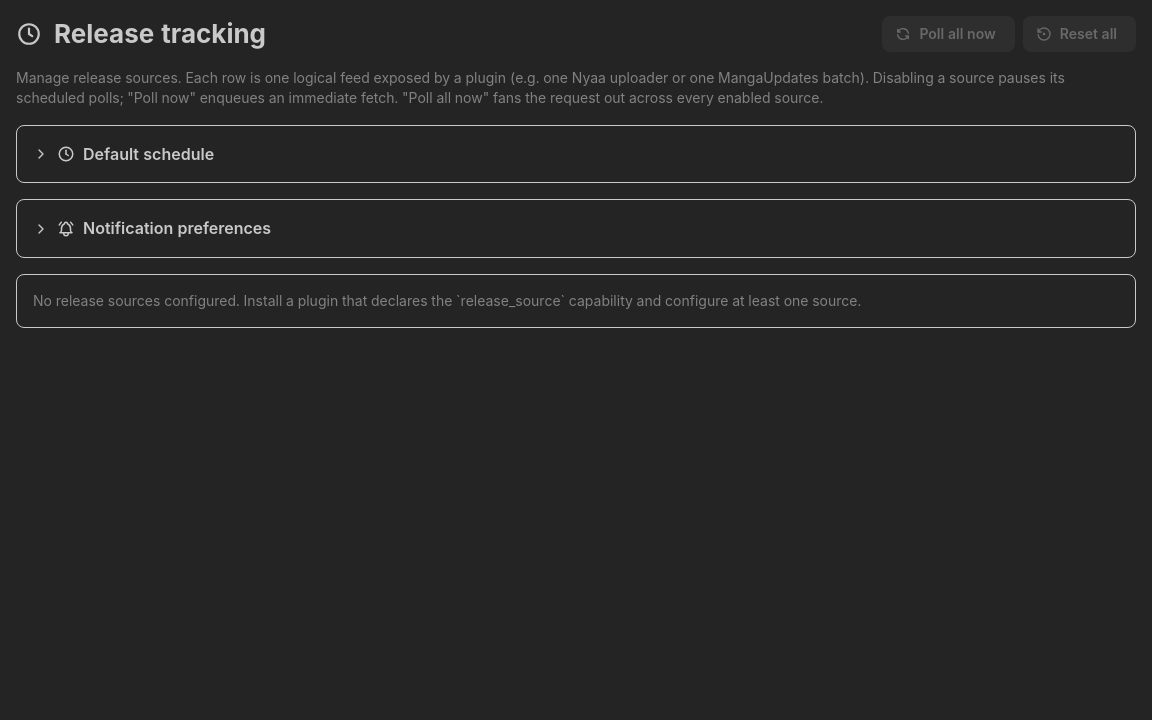
Test: ReleaseTrackingSettings › plugin-sources dropdown lists release-source plugins by display name
Click the button with aria-label "Expand notification preferences".
click(152, 228)  # box [33,218,271,238]
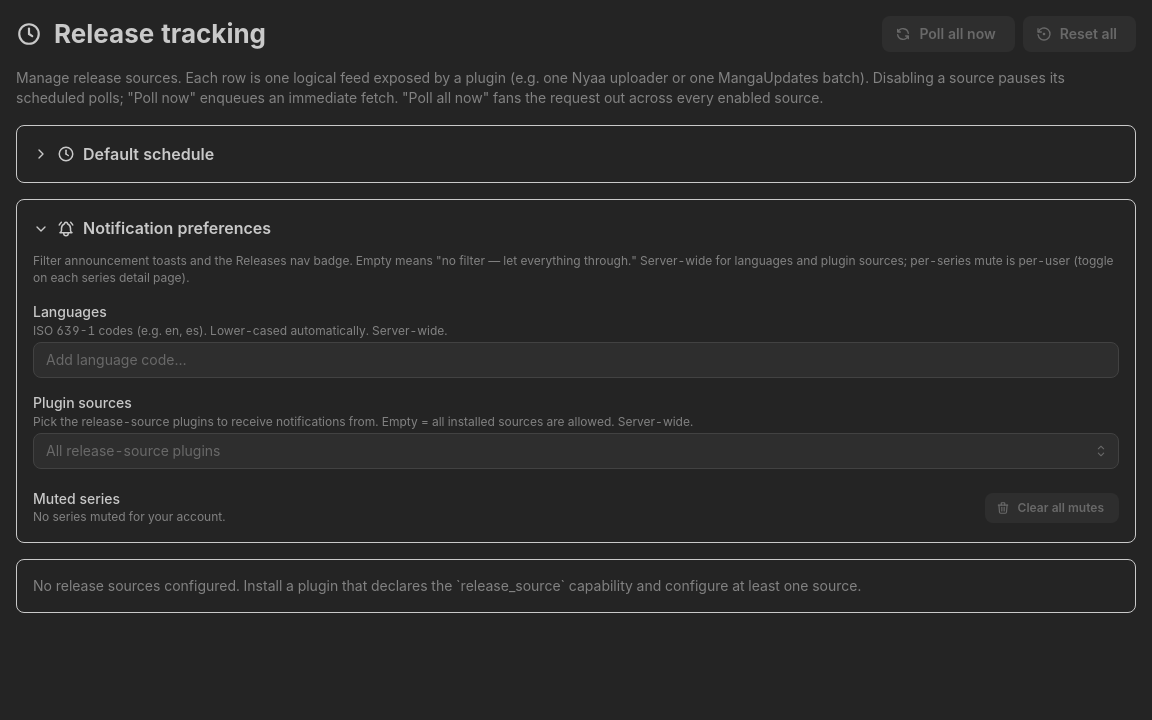
Click the field labelled "Plugin sources".
click(565, 451)  # box [46,440,1084,462]
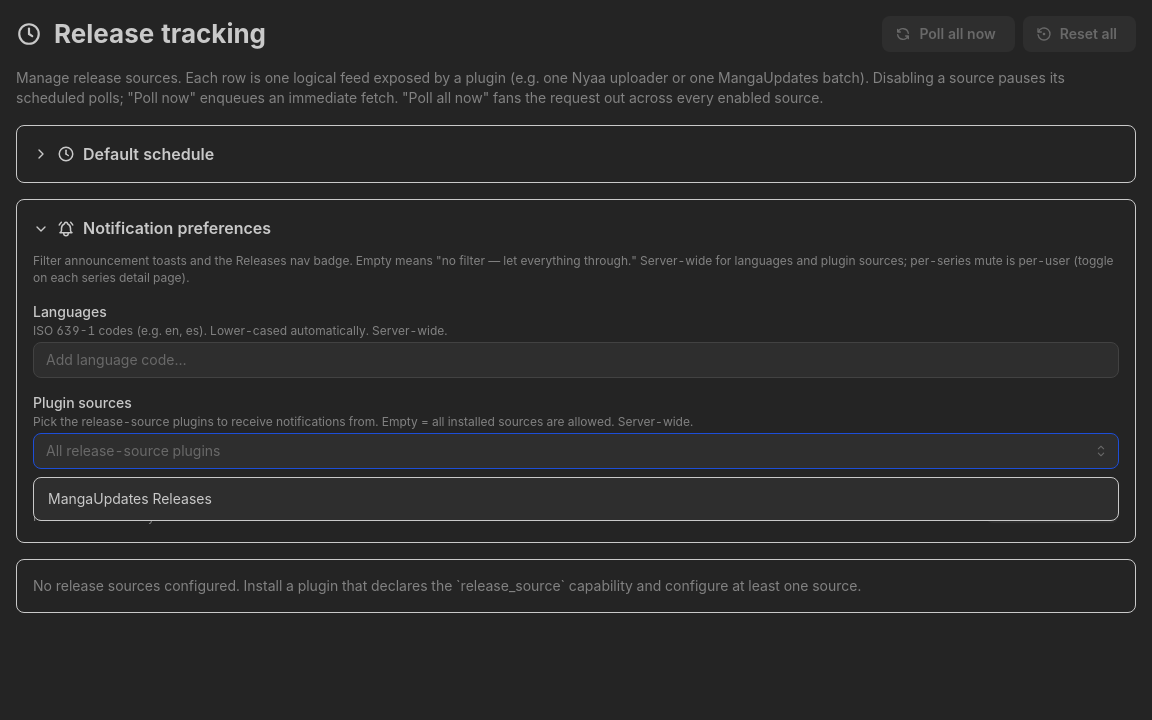
expect the text "MangaUpdates Releases" is shown: met, box [48,488,212,510]
